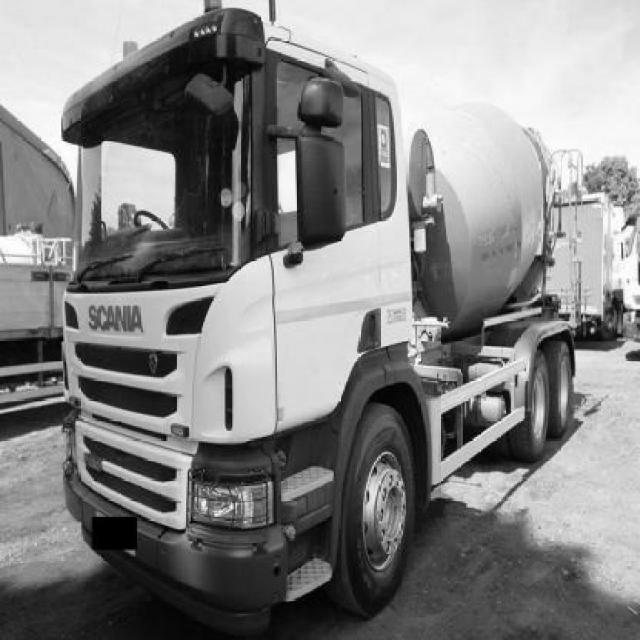Concrete Mixer: (59, 0, 577, 640)
